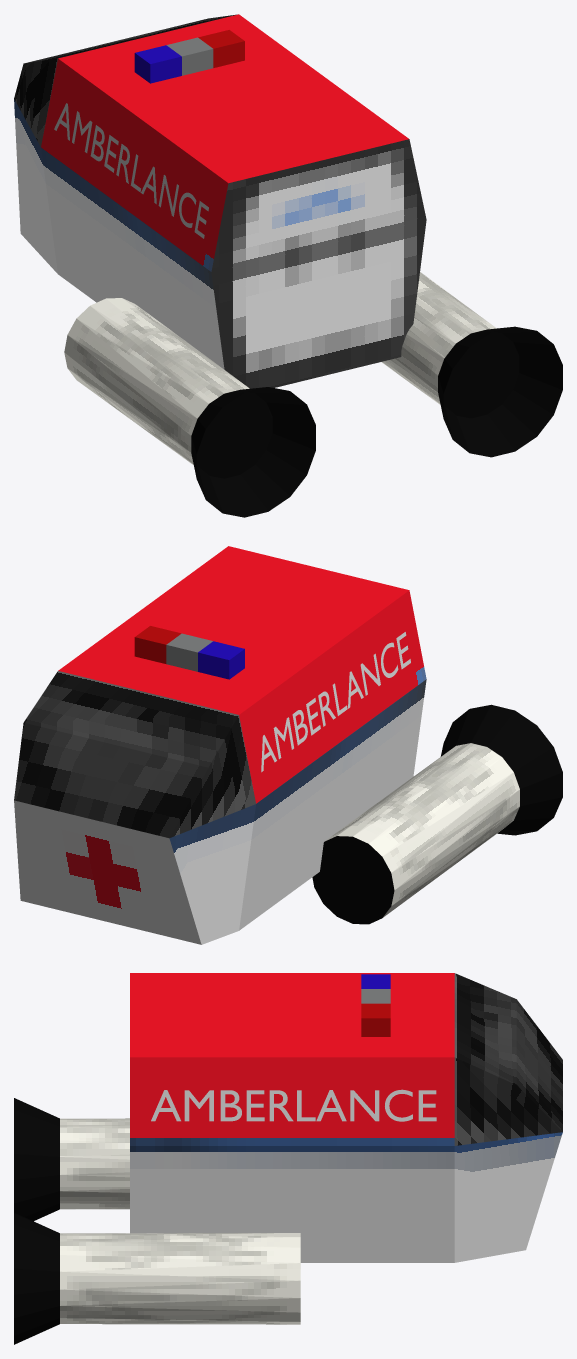
The model's file is AMBERLANCE_SPACE_SHIP.fbx.
3 renders of one model, top to bottom at view 1: azimuth 30°, elevation 25°; view 2: azimuth 150°, elevation 25°; view 3: azimuth 270°, elevation 25°, orthographic. The views are drawn at different scales.
Visible parts, largest first — view 1: Cube.005, Cylinder.005, Cube.006, Amberlance; view 2: Cube.005, Cylinder.005, Cube.006, Amberlance; view 3: Cube.005, Cylinder.005, Amberlance01, Cube.006.
Part boxes in pixels (x1,y1,x2,y2): Cube.005: [14, 14, 426, 388]; Cylinder.005: [64, 272, 562, 517]; Cube.006: [134, 30, 244, 83]; Amberlance: [54, 103, 208, 238]; Cube.005: [14, 546, 426, 944]; Cylinder.005: [312, 704, 562, 924]; Cube.006: [134, 626, 244, 679]; Amberlance: [261, 632, 410, 772]; Cube.005: [130, 973, 562, 1262]; Cylinder.005: [14, 1098, 300, 1344]; Amberlance01: [151, 1089, 436, 1121]; Cube.006: [361, 974, 390, 1036].
Bounding box in the file's own units: 2410 × 1877 × 3284.
